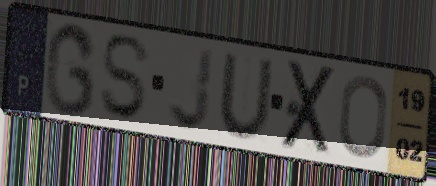G: (41, 20, 99, 119)
J: (166, 45, 216, 133)
O: (336, 74, 390, 161)
S: (97, 32, 153, 123)
U: (216, 51, 276, 143)
X: (278, 58, 340, 157)
